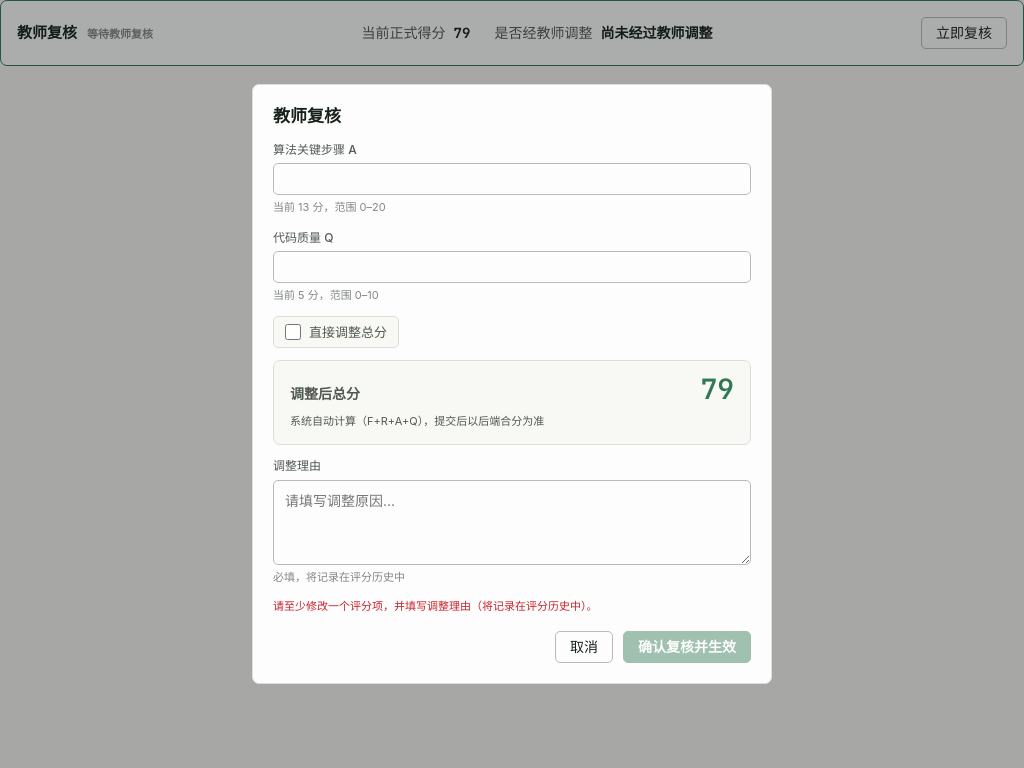
Test: TeacherReviewPanel › 直接调整总分开关展开总分输入
Click the checkbox labelled "直接调整总分": (293, 332) [285,324,301,340]
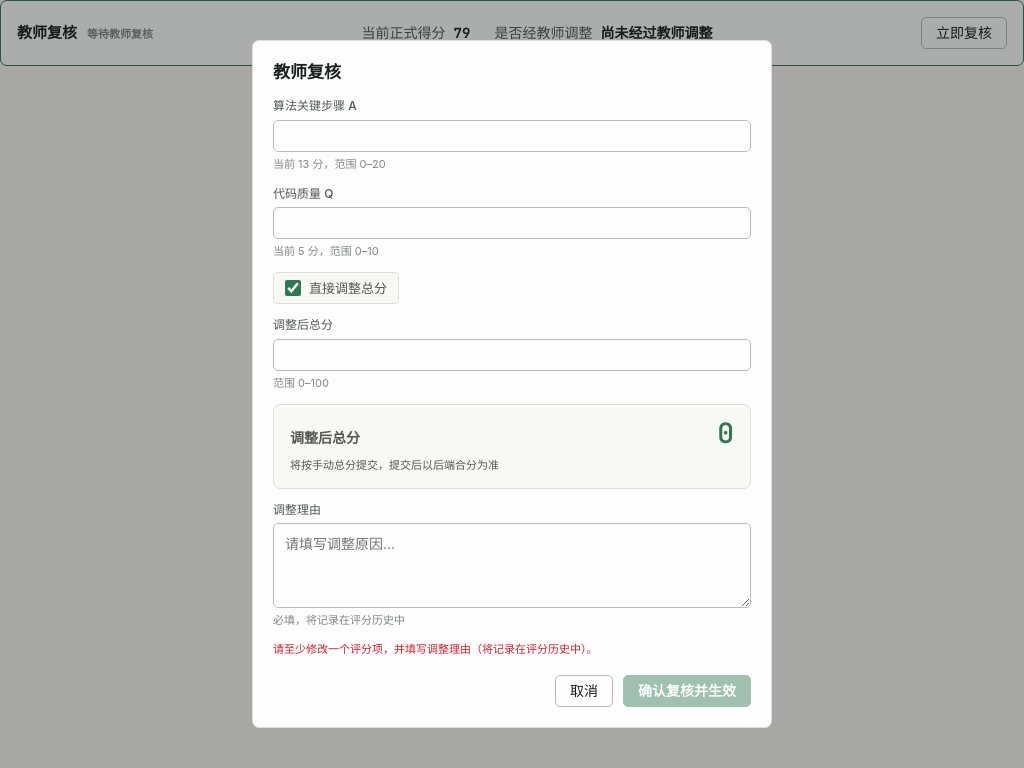
Now the number field with id "ov-final" is shown
In the number field with id "ov-final": (512, 355) [273,339,751,371], type "88"
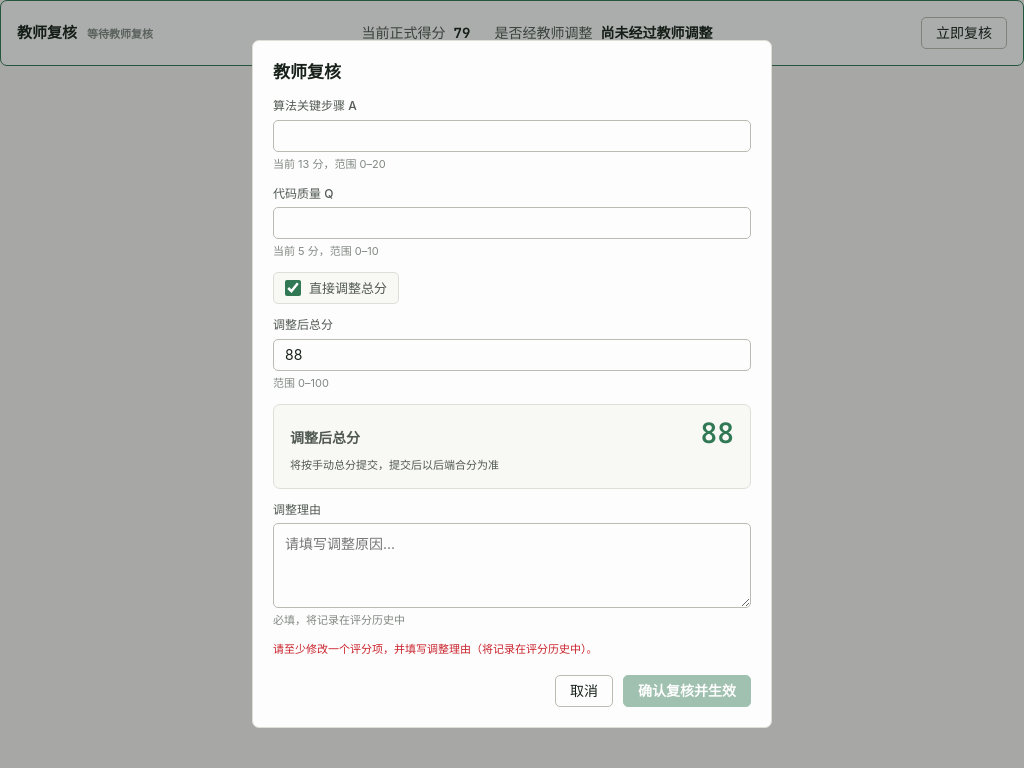
Now the text "88" is shown, box [700,419,734,447]
